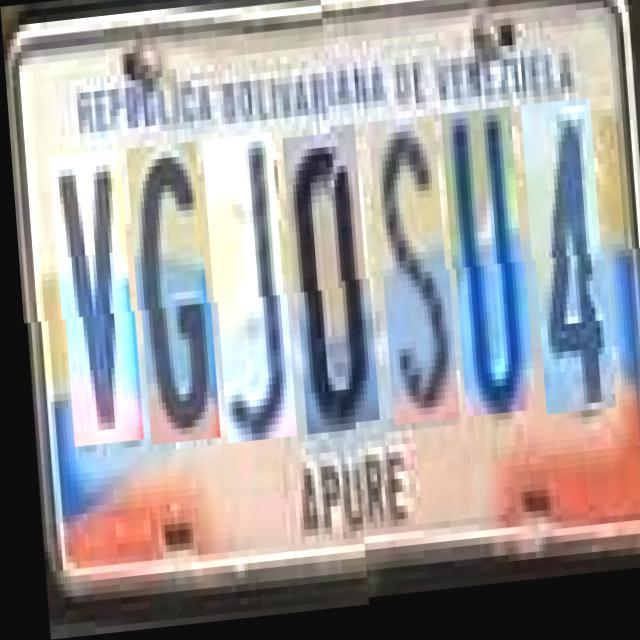0: (283, 138, 373, 441)
4: (522, 118, 609, 434)
G: (127, 145, 213, 448)
J: (204, 139, 290, 448)
S: (370, 131, 452, 440)
U: (442, 124, 529, 433)
V: (51, 152, 137, 448)
